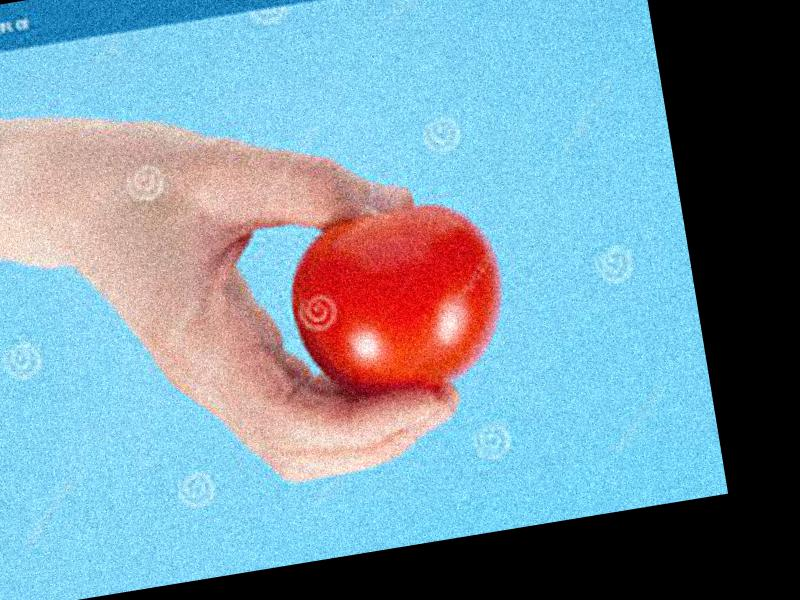Tomato: (282, 195, 515, 411)
